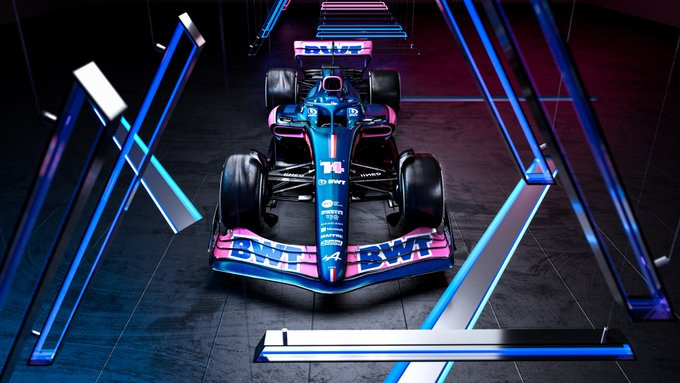Bobsleigh: (218, 40, 449, 291)
